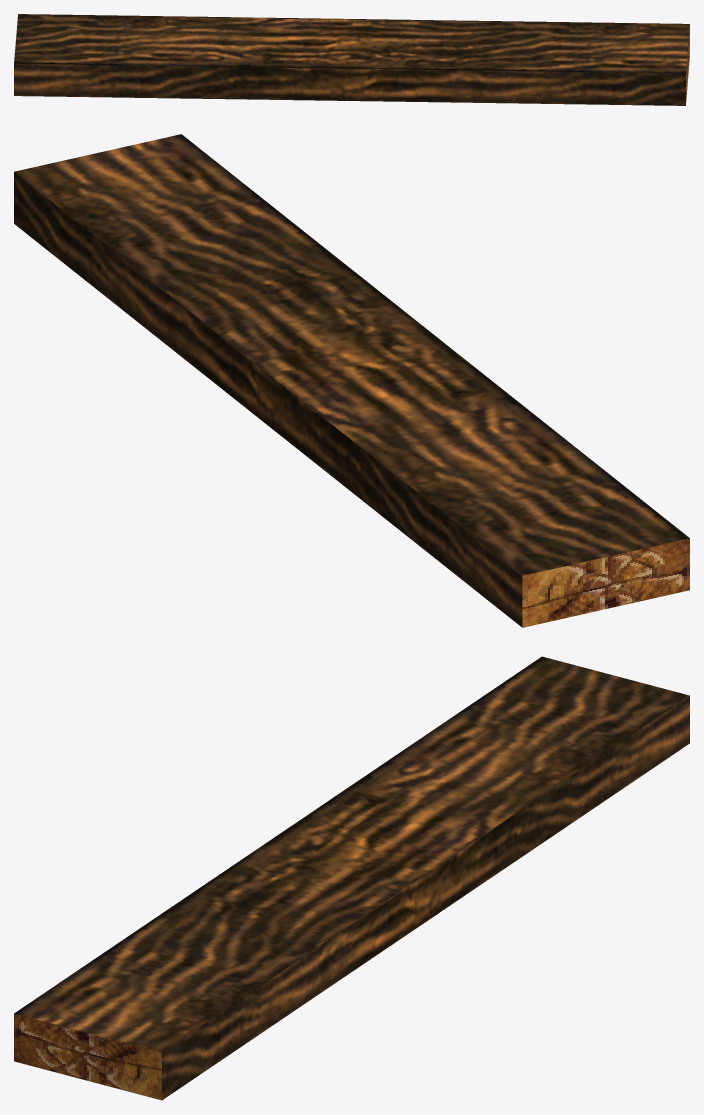
File: OVERHILL_A_01_BOX92.fbx
3 views of the same model, one above another, from view 1: azimuth 30°, elevation 25°; view 2: azimuth 150°, elevation 25°; view 3: azimuth 270°, elevation 25° (orthographic). The views are drawn at different scales.
Visible parts, largest first — view 1: OVERHILL_A_01_BOX92; view 2: OVERHILL_A_01_BOX92; view 3: OVERHILL_A_01_BOX92.
Part boxes in pixels (x1,y1,x2,y2): OVERHILL_A_01_BOX92: (14,14,689,105); OVERHILL_A_01_BOX92: (14,134,689,627); OVERHILL_A_01_BOX92: (14,656,689,1100).
Bounding box in the file's own units: 8879 × 500 × 6403.
Materials: 2 (2 with a texture image).
